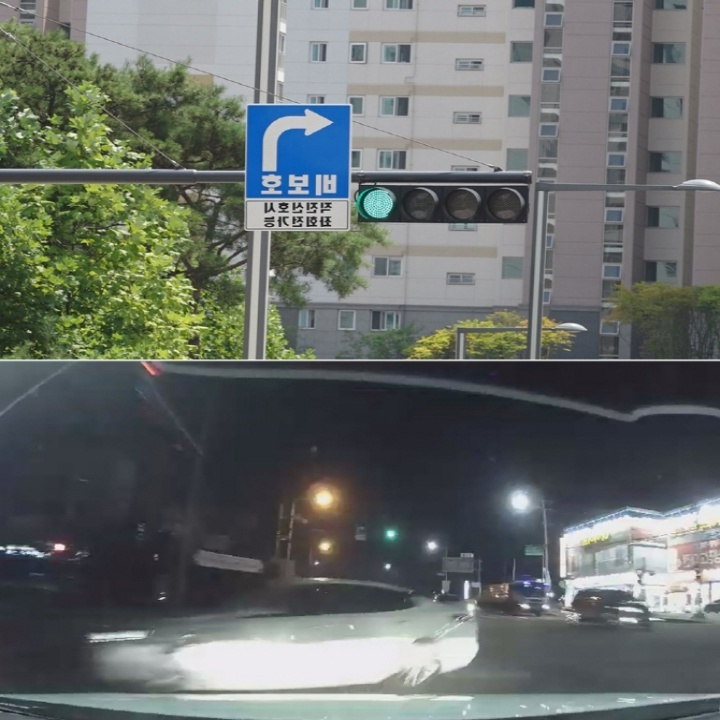right: (259, 106, 335, 172)
